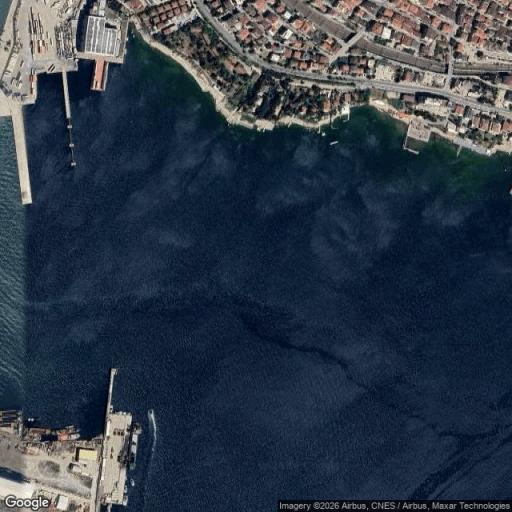ship: (129, 424, 141, 469), (57, 426, 80, 435), (1, 410, 21, 419), (58, 434, 80, 440), (30, 428, 52, 434), (123, 495, 129, 506), (330, 140, 338, 145), (130, 479, 135, 486), (124, 485, 127, 493)
